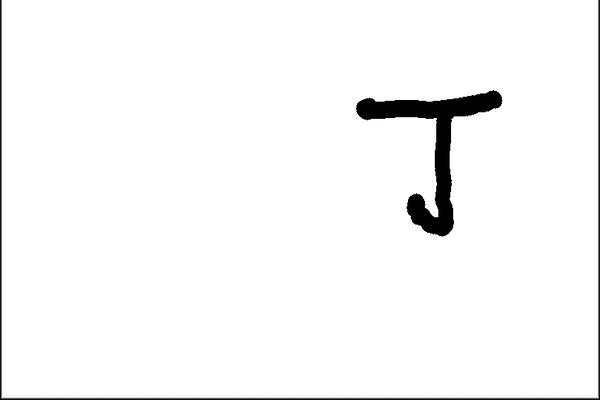J: (348, 86, 511, 242)
